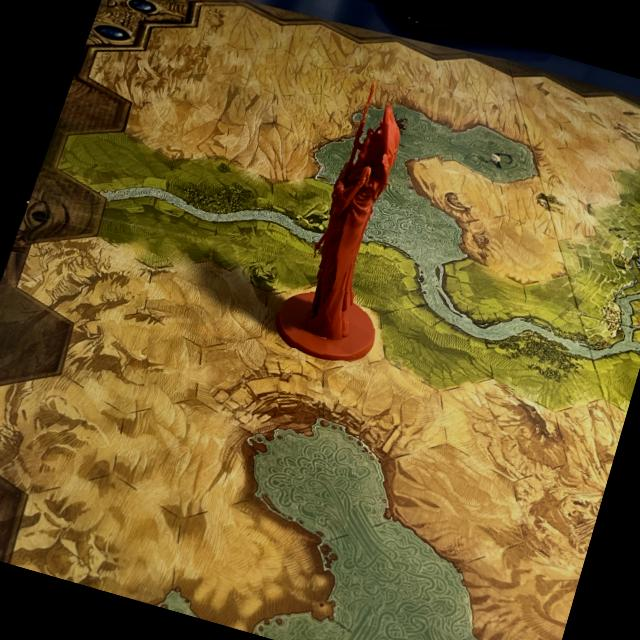amon: (256, 66, 462, 373)
